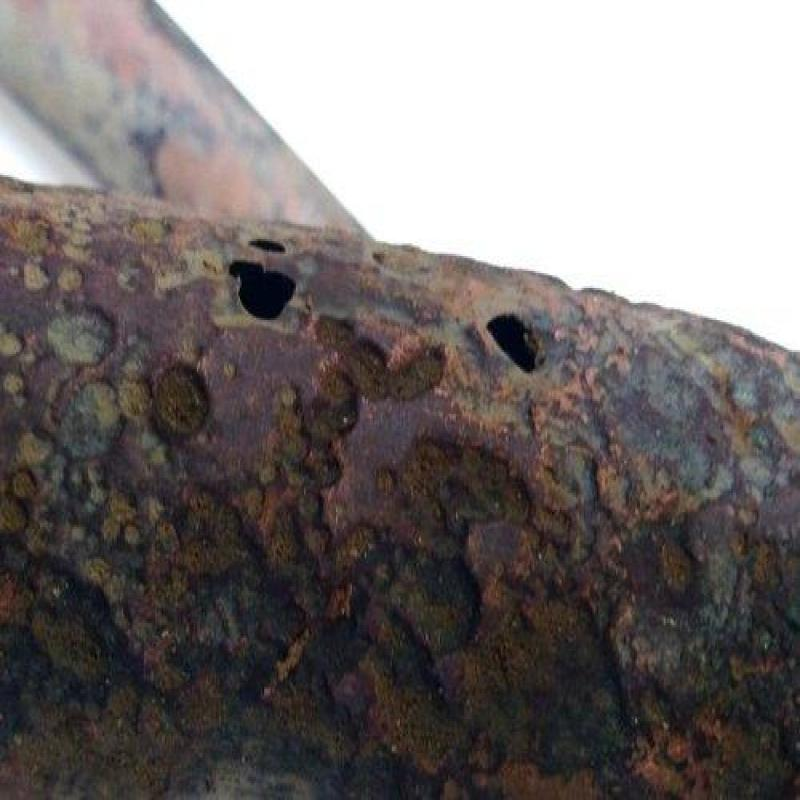Fracture: (467, 294, 559, 372), (227, 239, 315, 318)
